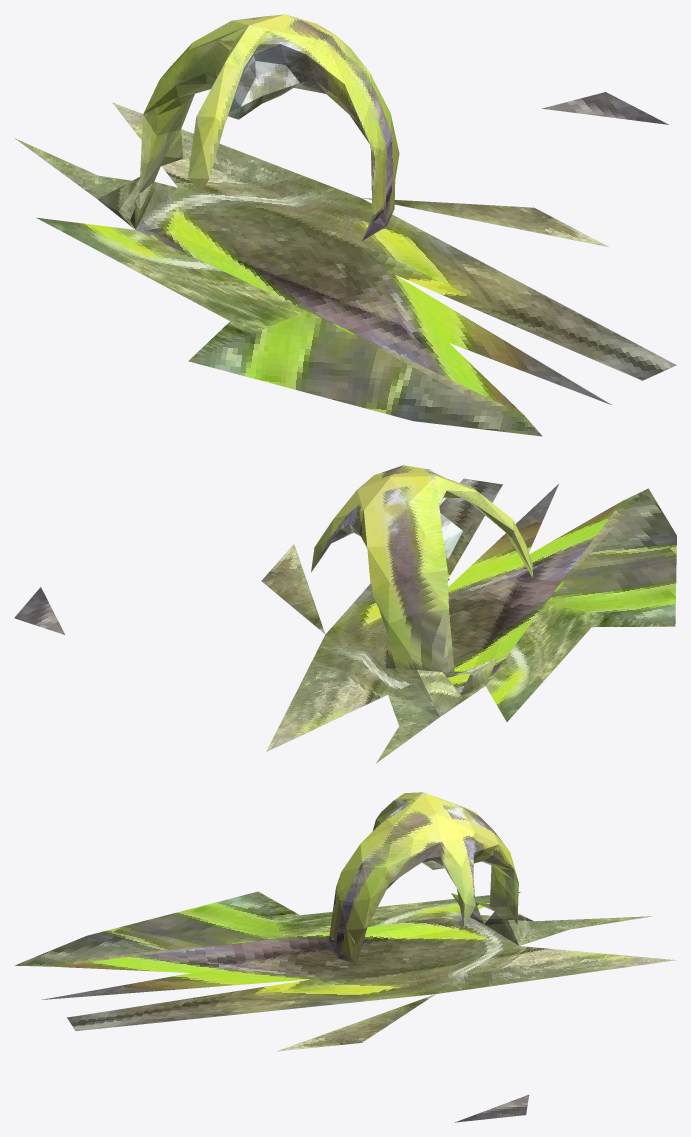
3 renders of one model, top to bottom at view 1: azimuth 30°, elevation 25°; view 2: azimuth 150°, elevation 25°; view 3: azimuth 270°, elevation 25°, orthographic. The views are drawn at different scales.
Visible parts, largest first — view 1: Mesh_0; view 2: Mesh_0; view 3: Mesh_0.
Boxes of the visible parts, x1,y1,x2,y2 form: Mesh_0: [15, 14, 676, 436]; Mesh_0: [14, 465, 676, 763]; Mesh_0: [15, 792, 676, 1122].
Size of the model in its own units: 0.4502 by 0.157 by 0.5597.
1 material, 1 textured.
